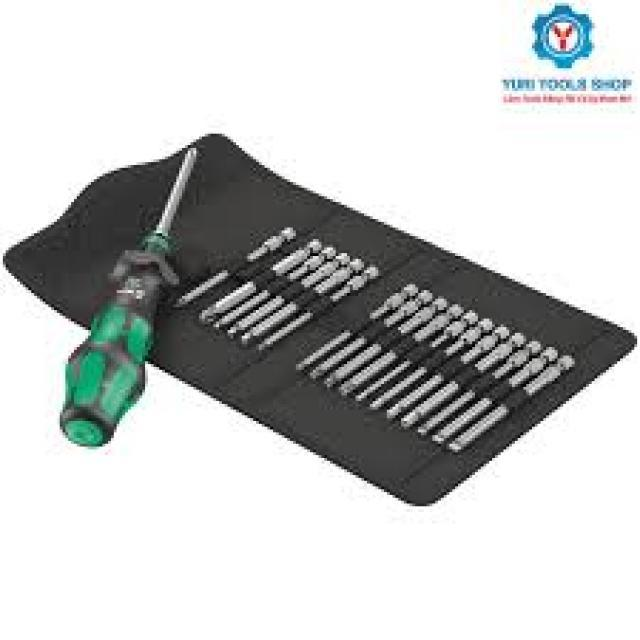screwdriver: (56, 144, 206, 450)
